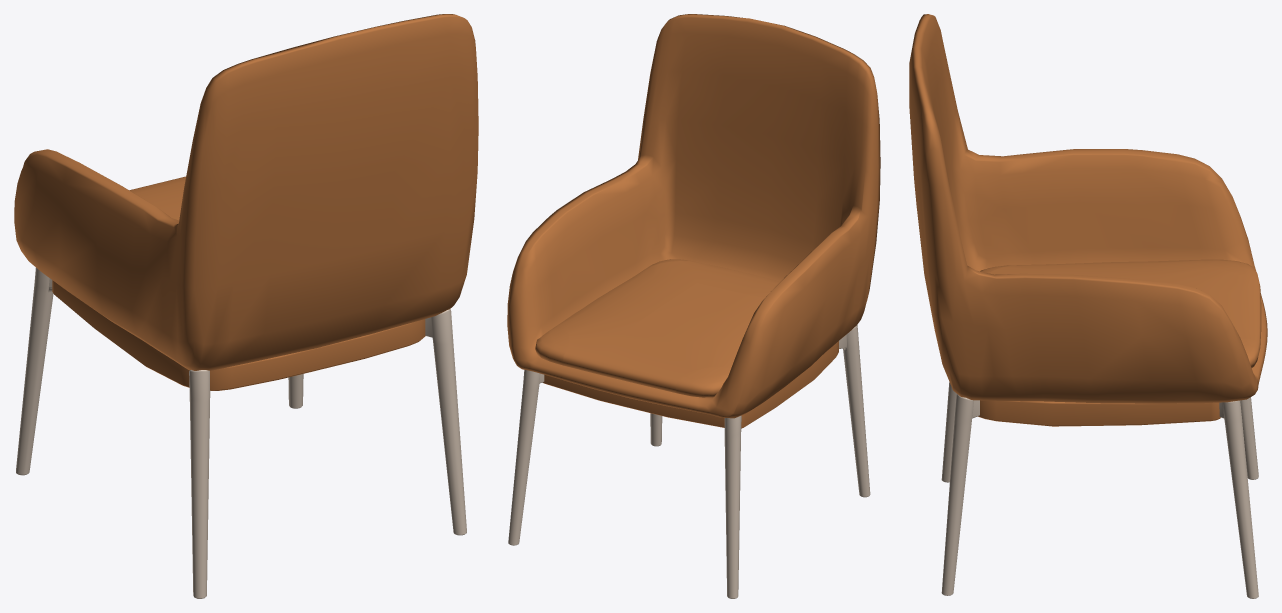
Rendered from chair_cognac.glb.
3 renders of one model, left to right at view 1: azimuth 30°, elevation 25°; view 2: azimuth 150°, elevation 25°; view 3: azimuth 270°, elevation 25°, orthographic. The views are drawn at different scales.
Parts seen in each view (by area): view 1: Chair_1_4; view 2: Chair_1_4; view 3: Chair_1_4.
Part boxes in pixels (x1=…): Chair_1_4: x1=14, y1=14, x2=478, y2=598; Chair_1_4: x1=507, y1=14, x2=880, y2=598; Chair_1_4: x1=909, y1=14, x2=1267, y2=598.
Bounding box in the file's own units: 0.6115 × 0.9785 × 0.6552.
